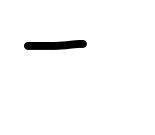minus: (24, 39, 87, 50)
